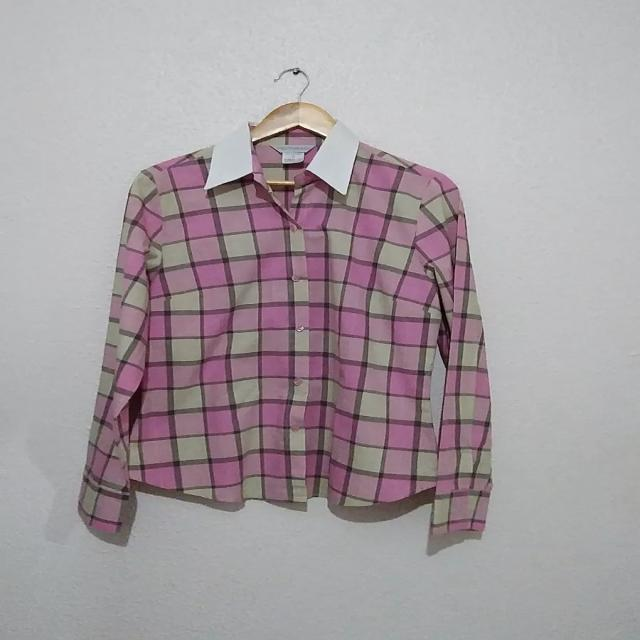long sleeve shirt: (73, 116, 496, 538)
